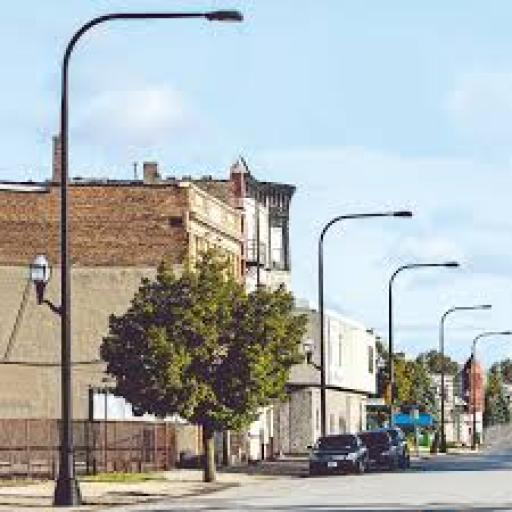Light-pole: (31, 0, 287, 507), (306, 186, 410, 472), (366, 237, 458, 444), (427, 289, 487, 446), (462, 320, 511, 448)
